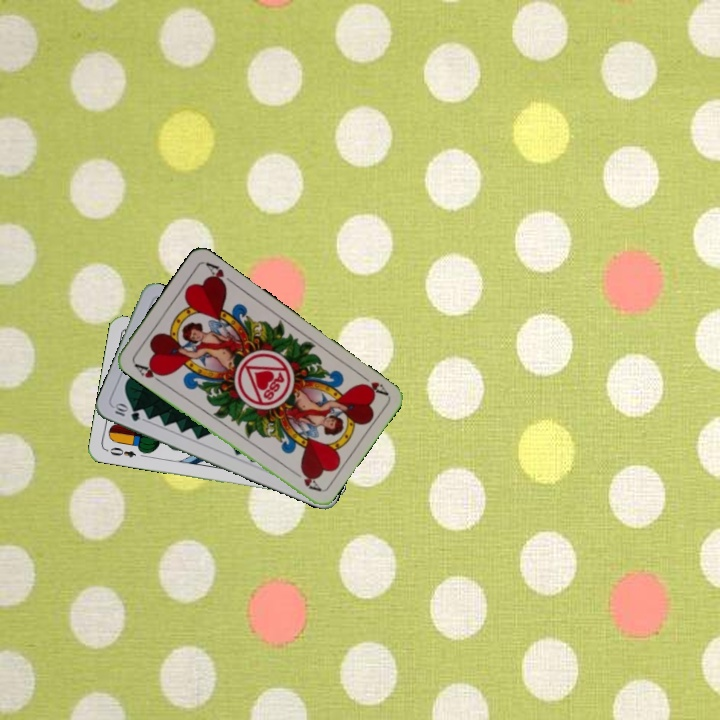EO: (103, 443, 139, 460)
G10: (110, 400, 142, 424)
HA: (355, 369, 390, 398), (130, 359, 167, 386)
